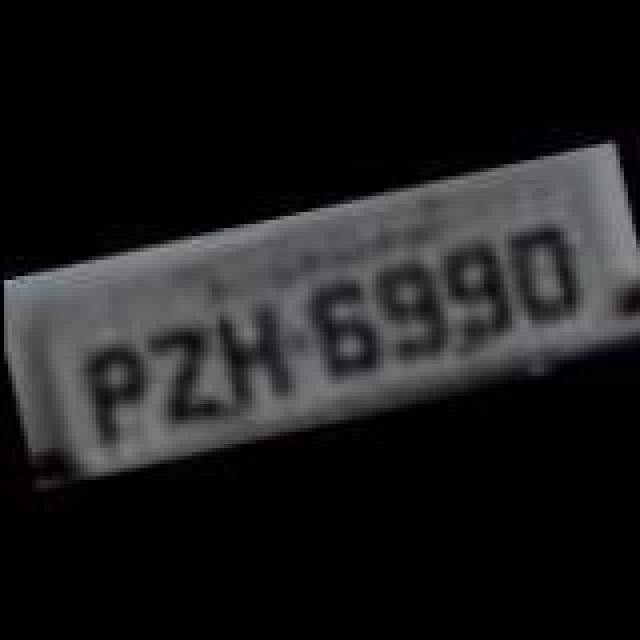6: (292, 270, 380, 378)
9: (428, 234, 516, 346), (362, 252, 446, 364)
H: (206, 298, 298, 418)
O: (504, 218, 592, 330)
P: (62, 336, 154, 444)
Z: (136, 322, 224, 426)
